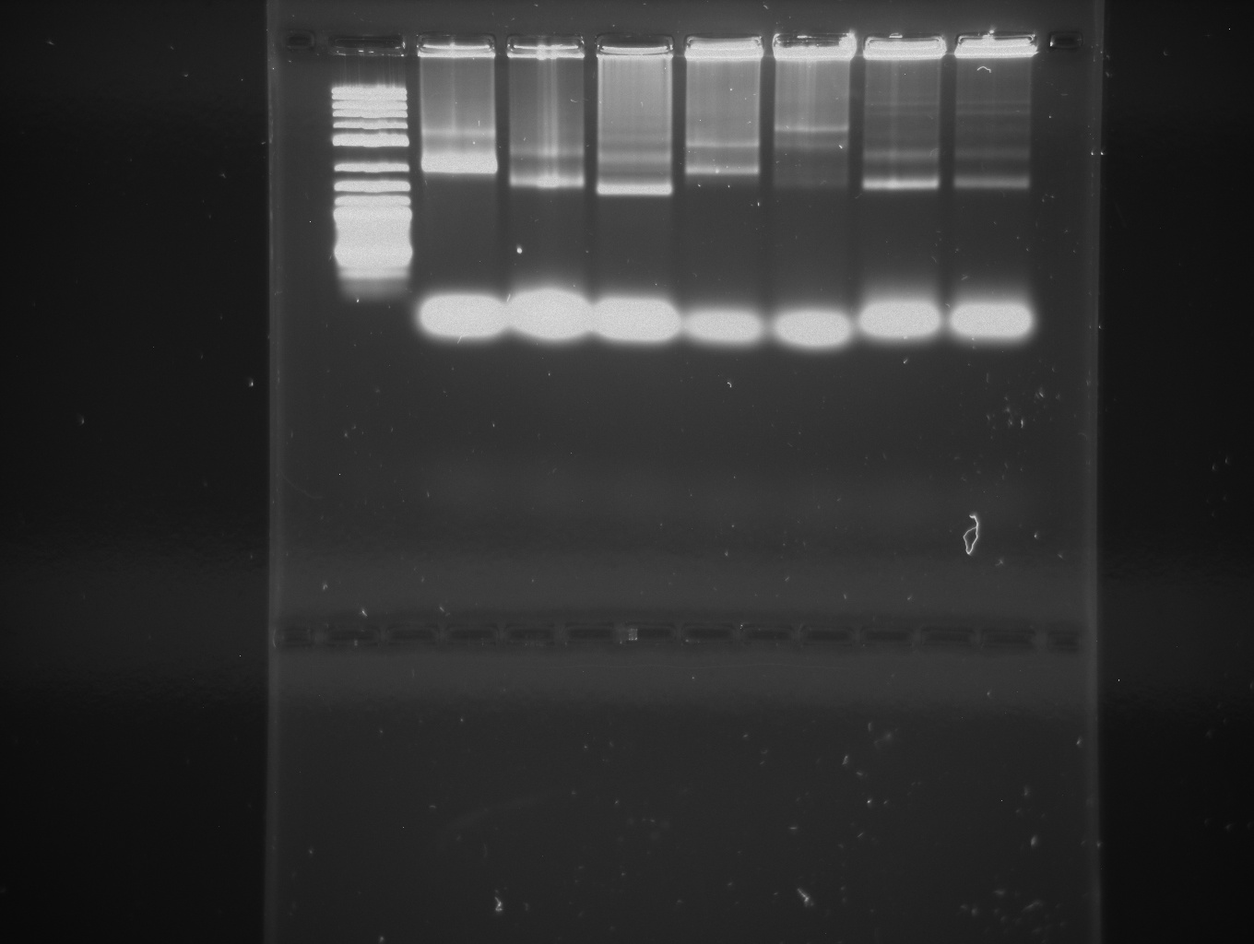Lane: (420, 23, 501, 944), (509, 23, 589, 944), (862, 16, 942, 933), (950, 23, 1029, 944), (685, 9, 762, 944), (597, 12, 674, 944), (777, 21, 852, 908)
ladder: (323, 18, 415, 944)
